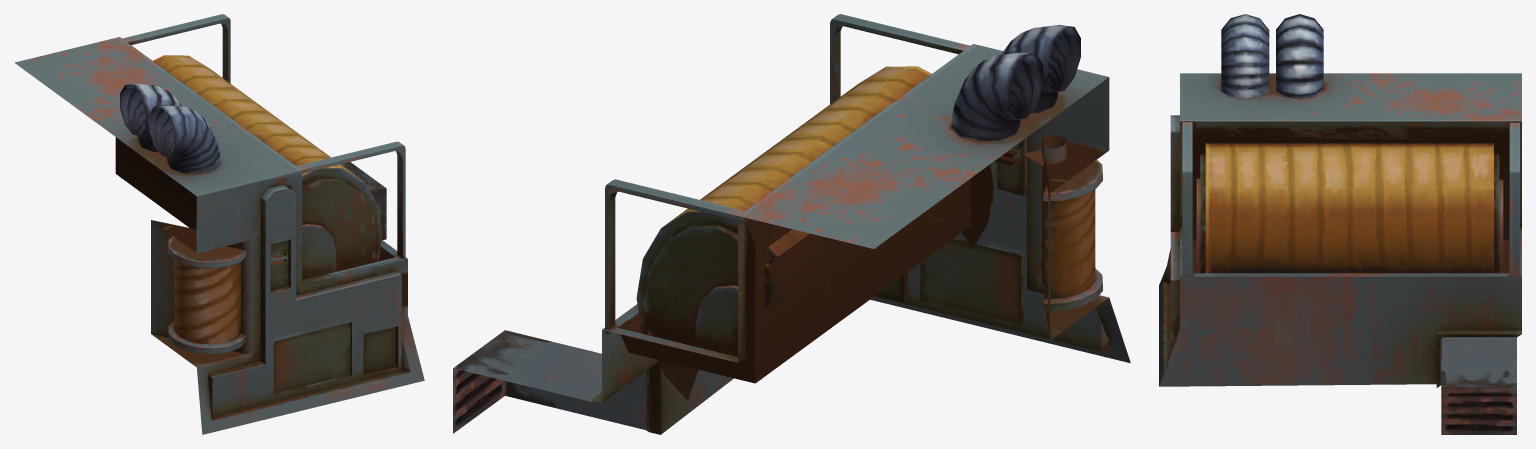
File: PROP_066_EngineMotor.fbx
3 renders of one model, left to right at view 1: azimuth 30°, elevation 25°; view 2: azimuth 150°, elevation 25°; view 3: azimuth 270°, elevation 25°, orthographic. The views are drawn at different scales.
Parts seen in each view (by area): view 1: Motor.002; view 2: Motor.002; view 3: Motor.002.
Part boxes in pixels (left/top/right/bottom): Motor.002: left=14, top=14, right=424, bottom=434; Motor.002: left=453, top=14, right=1130, bottom=434; Motor.002: left=1159, top=14, right=1521, bottom=434.
Bounding box in the file's own units: 3 × 2.5 × 3.
1 material, 1 textured.
